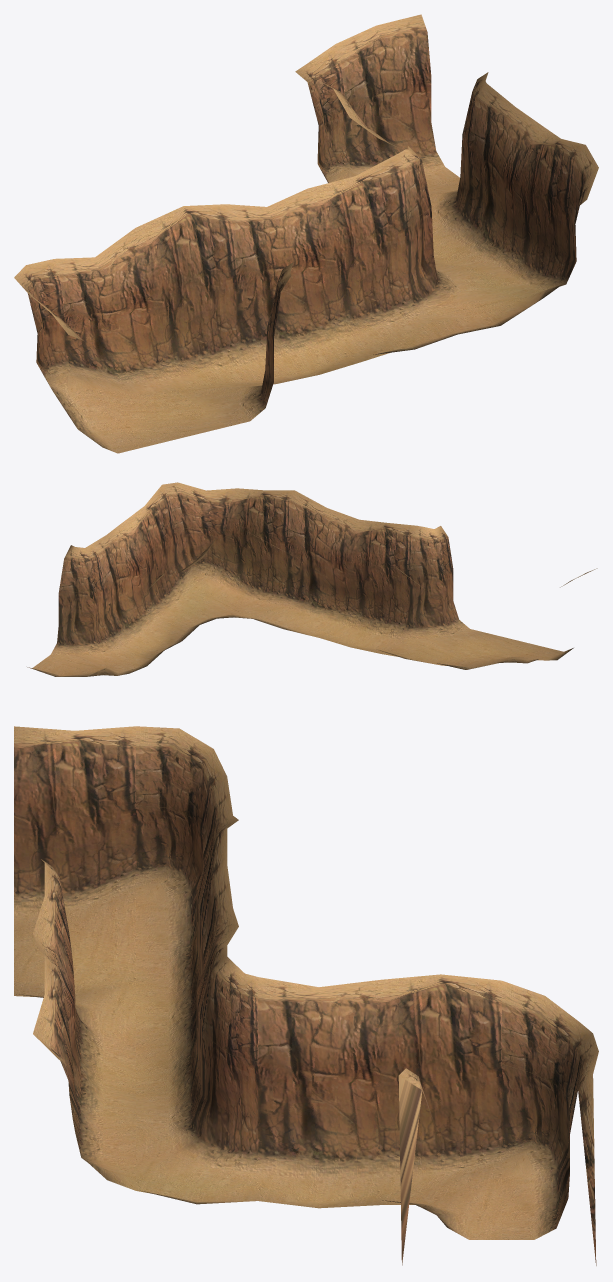
Rendered from Zone05B.glb.
The picture shows the model from 3 angles, top to bottom: view 1: azimuth 30°, elevation 25°; view 2: azimuth 150°, elevation 25°; view 3: azimuth 270°, elevation 25°; orthographic projection. The views are drawn at different scales.
Parts seen in each view (by area): view 1: ZONE05B011, ZONE05B009, ZONE05B010, ZONE05B008, ZONE05B019, ZONE05B015, ZONE05B013, ZONE05B001, ZONE05B012, ZONE05B007, ZONE05B018, ZONE05B002 (+7 smaller); view 2: ZONE05B005, ZONE05B003, ZONE05B004, ZONE05B002, ZONE05B017, ZONE05B013, ZONE05B015, ZONE05B006, ZONE05B001, ZONE05B012, ZONE05B014, ZONE05B016 (+6 smaller); view 3: ZONE05B014, ZONE05B016, ZONE05B, ZONE05B012, ZONE05B018, ZONE05B007, ZONE05B019, ZONE05B001, ZONE05B011, ZONE05B008, ZONE05B017, ZONE05B009 (+6 smaller).
Boxes of the visible parts, x1,y1,x2,y2 form: ZONE05B011: (308,149,434,355); ZONE05B009: (135,204,262,390); ZONE05B010: (226,188,348,379); ZONE05B008: (54,228,176,394); ZONE05B019: (335,14,457,183); ZONE05B015: (433,83,544,263); ZONE05B013: (472,127,585,291); ZONE05B001: (91,388,237,447); ZONE05B012: (406,146,540,320); ZONE05B007: (14,259,90,392); ZONE05B018: (295,44,358,182); ZONE05B002: (178,262,293,426); ZONE05B005: (191,488,294,609); ZONE05B003: (330,519,416,650); ZONE05B004: (269,490,358,633); ZONE05B002: (390,525,485,658); ZONE05B017: (41,544,136,670); ZONE05B013: (121,485,191,623); ZONE05B015: (92,524,155,654); ZONE05B006: (162,482,236,588); ZONE05B001: (449,633,546,661); ZONE05B012: (172,589,267,627); ZONE05B014: (137,537,217,656); ZONE05B016: (100,574,164,673); ZONE05B014: (258,977,379,1207); ZONE05B016: (380,974,501,1204); ZONE05B: (14,726,135,930); ZONE05B012: (136,961,257,1201); ZONE05B018: (502,981,592,1177); ZONE05B007: (136,726,226,901); ZONE05B019: (502,1034,598,1265); ZONE05B001: (14,902,135,995); ZONE05B011: (136,927,238,1138); ZONE05B008: (136,777,238,982); ZONE05B017: (380,1068,501,1265); ZONE05B009: (136,828,227,1046).
Bounding box in the file's own units: 54.76 × 15.12 × 38.37.
4 materials, 4 textured.
